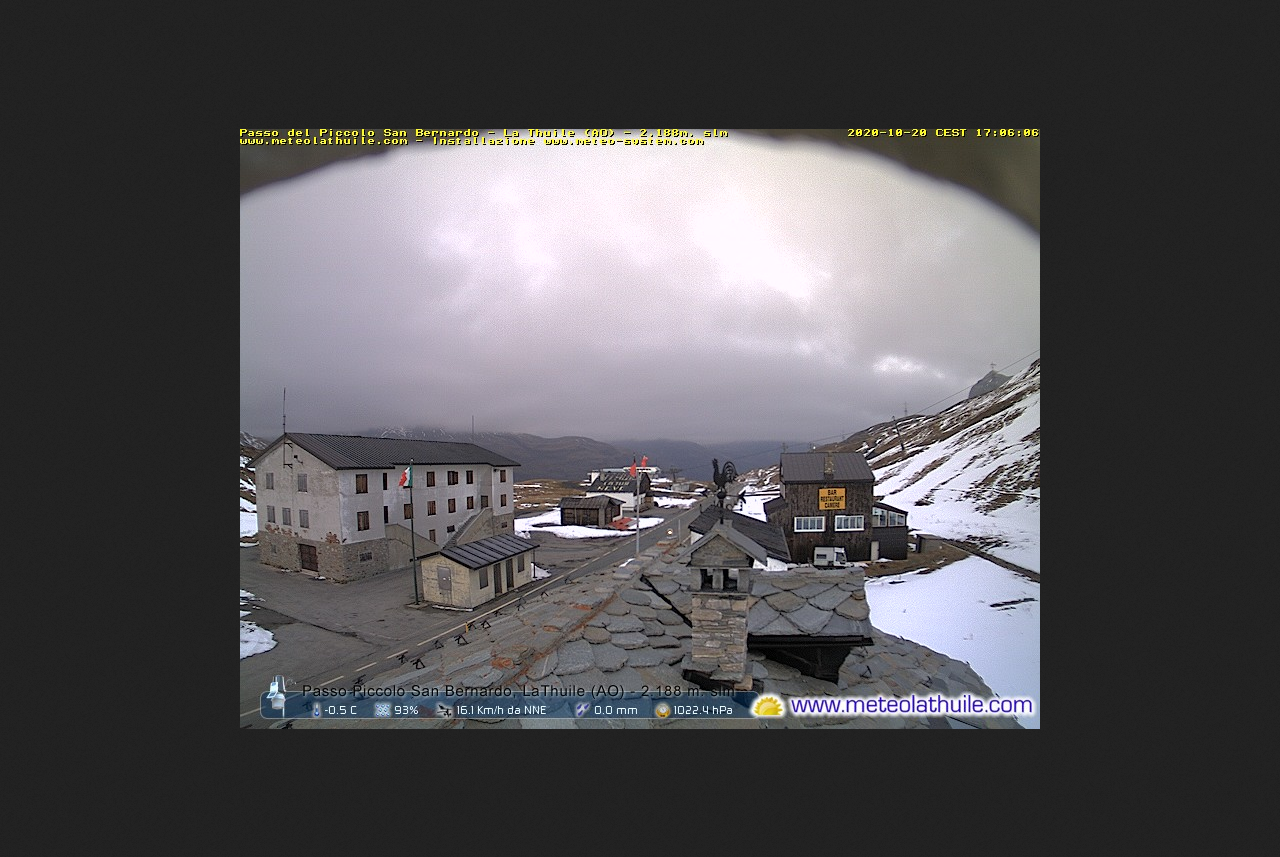yes: (399, 467, 412, 490)
